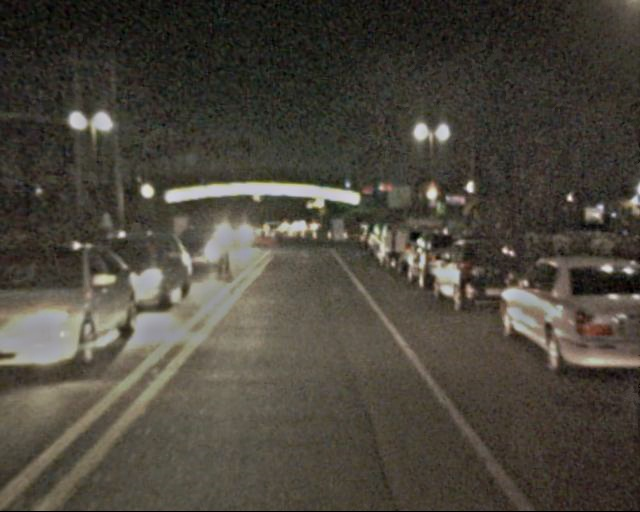person: (380, 218, 409, 288)
